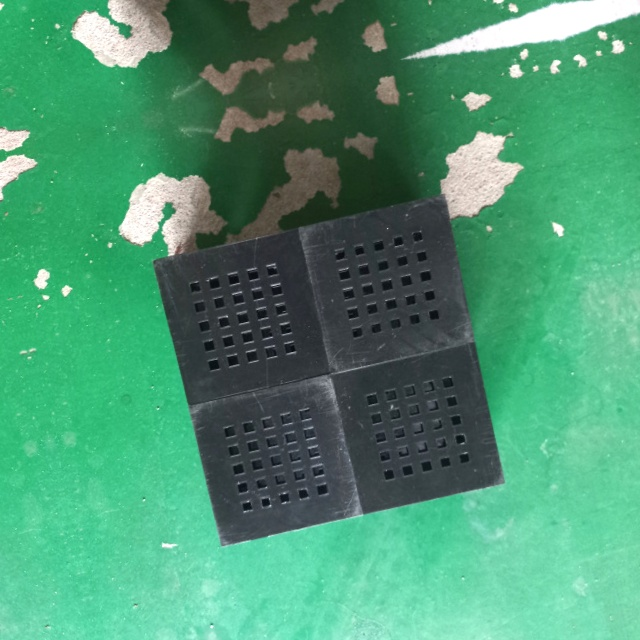pallet: (143, 184, 514, 557)
